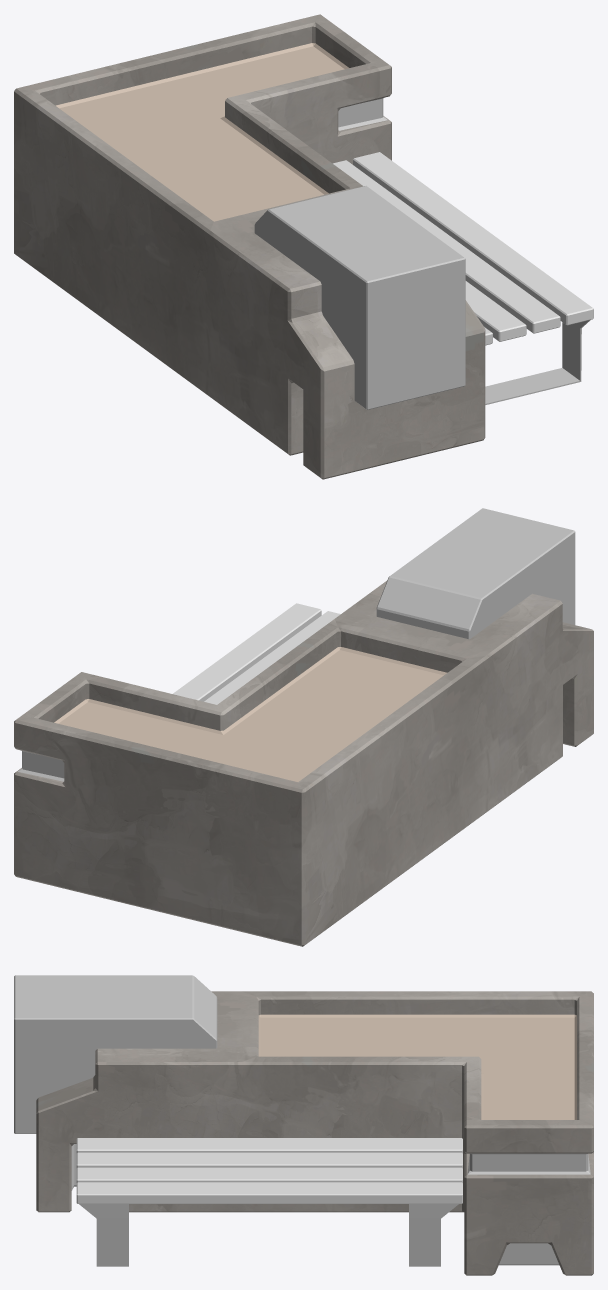
Rendered from MESH_BenchModule3.fbx.
3 views of the same model, one above another, from view 1: azimuth 30°, elevation 25°; view 2: azimuth 150°, elevation 25°; view 3: azimuth 270°, elevation 25° (orthographic). The views are drawn at different scales.
Visible parts, largest first — view 1: Cube.019, Bench.001; view 2: Cube.019, Bench.001; view 3: Cube.019, Bench.001.
Boxes of the visible parts, x1,y1,x2,y2 form: Cube.019: (14,14,485,479); Bench.001: (333,152,593,404); Cube.019: (14,508,593,946); Bench.001: (173,603,340,704); Cube.019: (14,975,593,1275); Bench.001: (76,1138,462,1266).
Bounding box in the file's own units: 217 × 134 × 391.
